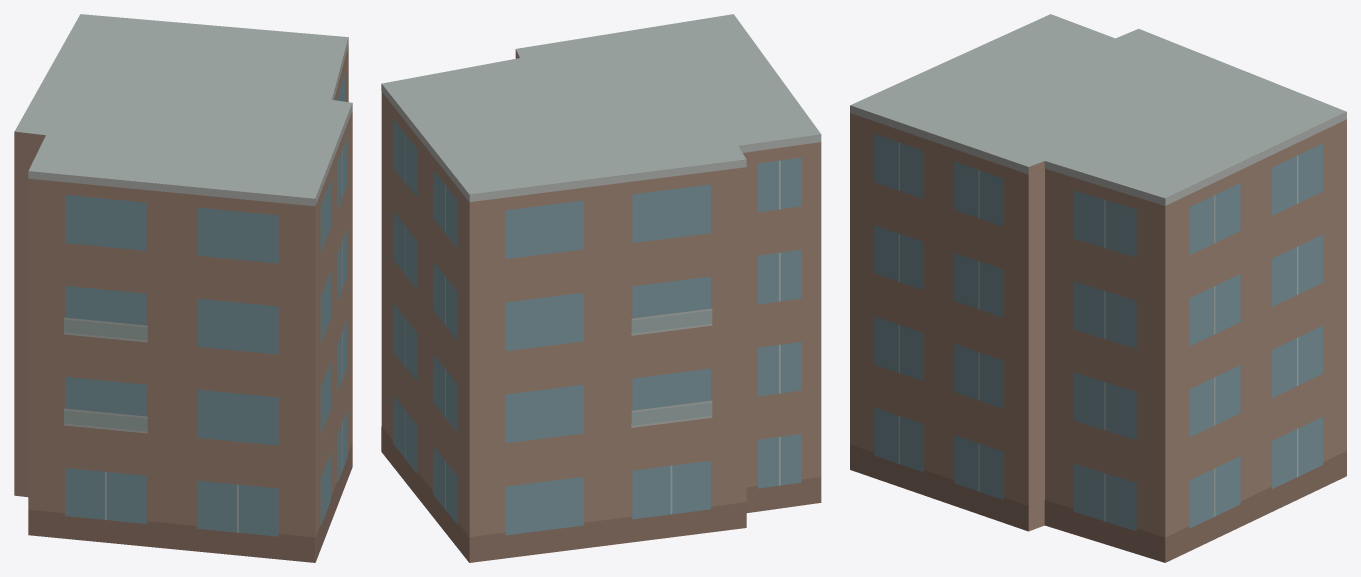
File: survey-upis-32489874.glb
3 renders of one model, left to right at view 1: azimuth 30°, elevation 25°; view 2: azimuth 150°, elevation 25°; view 3: azimuth 270°, elevation 25°, orthographic.
Visible parts, largest first — view 1: survey-upis-32489874.tmp; view 2: survey-upis-32489874.tmp; view 3: survey-upis-32489874.tmp.
Boxes of the visible parts, x1,y1,x2,y2 form: survey-upis-32489874.tmp: (14,14,352,562); survey-upis-32489874.tmp: (381,14,821,562); survey-upis-32489874.tmp: (850,14,1346,562).
Size of the model in its own units: 12.7 by 11.7 by 14.46.
